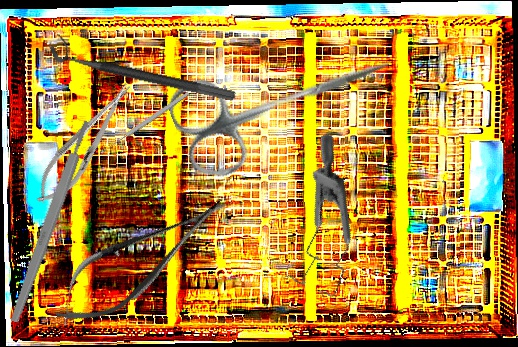Fixation Ring: (46, 32, 240, 103)
Iris Scissors: (162, 12, 406, 188)
Micro Scissor: (39, 178, 243, 342)
Needle Holder: (25, 73, 144, 215)
Scalpel Handle: (7, 119, 94, 324)
Speculum: (238, 131, 400, 312)
Surgical Spoon: (98, 90, 191, 156)
